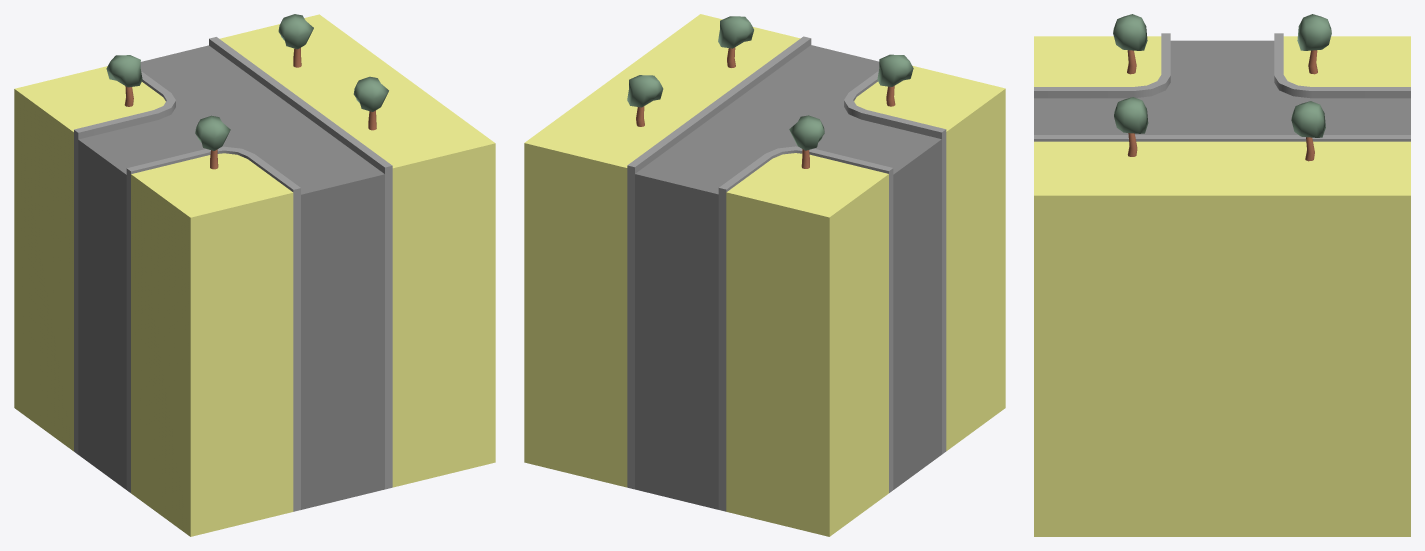
Rendered from City_tile_03.fbx.
The picture shows the model from 3 angles, left to right: view 1: azimuth 30°, elevation 25°; view 2: azimuth 150°, elevation 25°; view 3: azimuth 270°, elevation 25°; orthographic projection. The views are drawn at different scales.
Visible parts, largest first — view 1: City_tile_03; view 2: City_tile_03; view 3: City_tile_03.
Boxes of the visible parts, <box> form: City_tile_03: <box>14,14,495,536</box>; City_tile_03: <box>524,14,1005,536</box>; City_tile_03: <box>1034,14,1410,536</box>.
Bounding box in the file's own units: 100 × 116 × 100.
